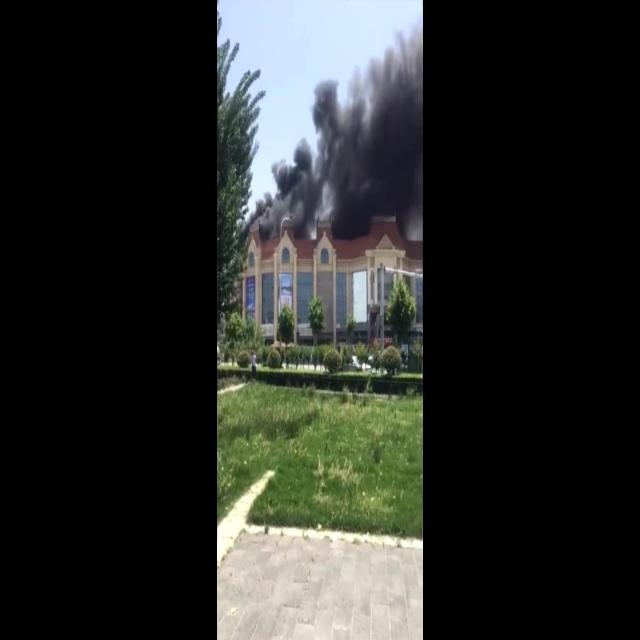Smoke: (237, 19, 422, 246)
